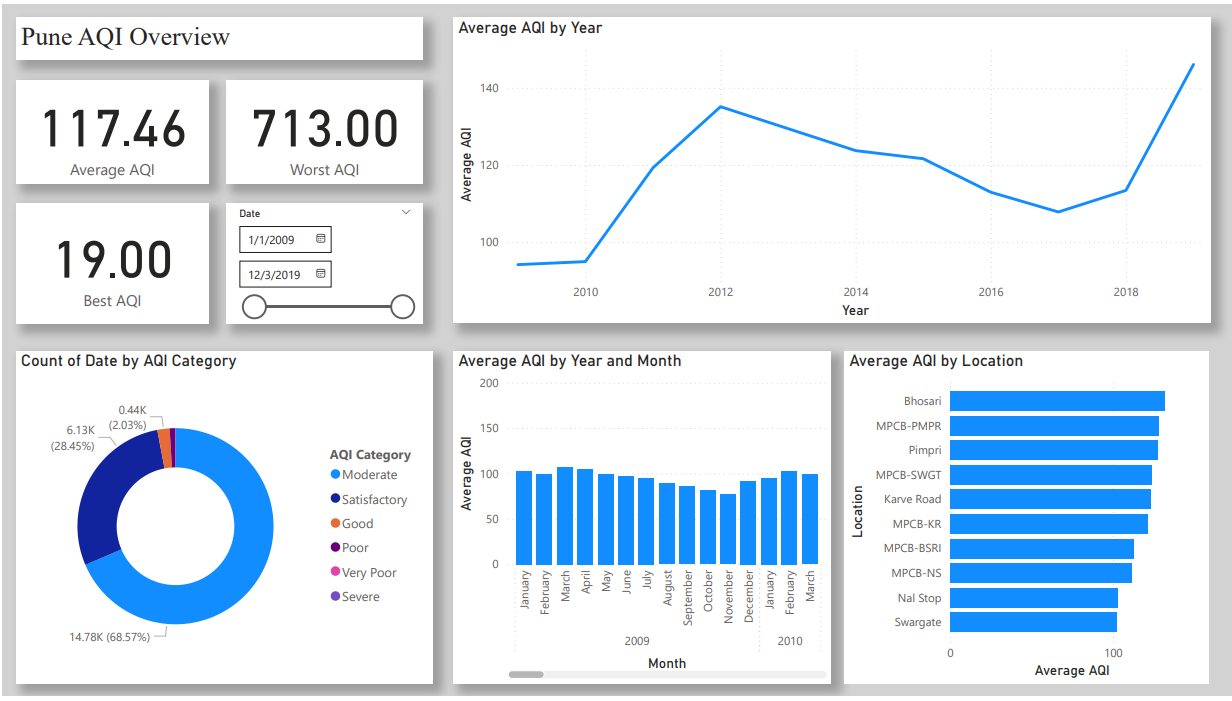

The page's visual inventory and layout, read from the dashboard file:
{"tool":"powerbi","page":{"name":"AQI_Overview","canvas":[1280,720],"ordinal":0},"visuals":[{"type":"card","fields":{"Values":["PNQ_AQI_Final_Cleaned_WithLocation.Worst AQI"]},"box":[233.8,78.9,204.2,108.5],"z":0},{"type":"card","fields":{"Values":["PNQ_AQI_Final_Cleaned_WithLocation.Best AQI"]},"box":[15.5,207,200,125.4],"z":1000},{"type":"lineChart","fields":{"Y":["PNQ_AQI_Final_Cleaned_WithLocation.Average AQI"],"Category":["PNQ_AQI_Final_Cleaned_WithLocation.Year"]},"box":[470.4,14.1,787.3,318.3],"z":2000},{"type":"donutChart","fields":{"Category":["PNQ_AQI_Final_Cleaned_WithLocation.AQI Category"],"Y":["CountNonNull(PNQ_AQI_Final_Cleaned_WithLocation.Date)"]},"box":[15.5,360.6,432.4,346.5],"z":3000},{"type":"clusteredColumnChart","fields":{"Y":["PNQ_AQI_Final_Cleaned_WithLocation.Average AQI"],"Category":["PNQ_AQI_Final_Cleaned_WithLocation.Date.Variation.Date Hierarchy.Year","PNQ_AQI_Final_Cleaned_WithLocation.Date.Variation.Date Hierarchy.Month"]},"box":[470.4,360.6,393,346.5],"z":4000},{"type":"card","fields":{"Values":["PNQ_AQI_Final_Cleaned_WithLocation.Average AQI"]},"box":[15.5,78.9,200,108.5],"z":5000},{"type":"slicer","fields":{"Values":["PNQ_AQI_Final_Cleaned_WithLocation.Date"]},"box":[233.8,207,204.2,125.4],"z":6000},{"type":"textbox","box":[15.5,14.1,422.5,43.7],"z":7000},{"type":"clusteredBarChart","fields":{"Category":["PNQ_AQI_Final_Cleaned_WithLocation.Location"],"Y":["PNQ_AQI_Final_Cleaned_WithLocation.Average AQI"]},"box":[877.5,360.6,378.9,346.5],"z":8000}]}

Visuals, with their boxes in screenshot pixels (x1, y1, x2, y2), scaled from the page's 1280x720 canvas onto the 1232x701 screenshot:
card - PNQ_AQI_Final_Cleaned_WithLocation.Worst AQI: [225, 77, 422, 182]
card - PNQ_AQI_Final_Cleaned_WithLocation.Best AQI: [15, 202, 207, 324]
lineChart - PNQ_AQI_Final_Cleaned_WithLocation.Average AQI x PNQ_AQI_Final_Cleaned_WithLocation.Year: [453, 14, 1211, 324]
donutChart - PNQ_AQI_Final_Cleaned_WithLocation.AQI Category x CountNonNull(PNQ_AQI_Final_Cleaned_WithLocation.Date): [15, 351, 431, 688]
clusteredColumnChart - PNQ_AQI_Final_Cleaned_WithLocation.Average AQI x PNQ_AQI_Final_Cleaned_WithLocation.Date.Variation.Date Hierarchy.Year: [453, 351, 831, 688]
card - PNQ_AQI_Final_Cleaned_WithLocation.Average AQI: [15, 77, 207, 182]
slicer - PNQ_AQI_Final_Cleaned_WithLocation.Date: [225, 202, 422, 324]
textbox: [15, 14, 422, 56]
clusteredBarChart - PNQ_AQI_Final_Cleaned_WithLocation.Location x PNQ_AQI_Final_Cleaned_WithLocation.Average AQI: [845, 351, 1209, 688]
